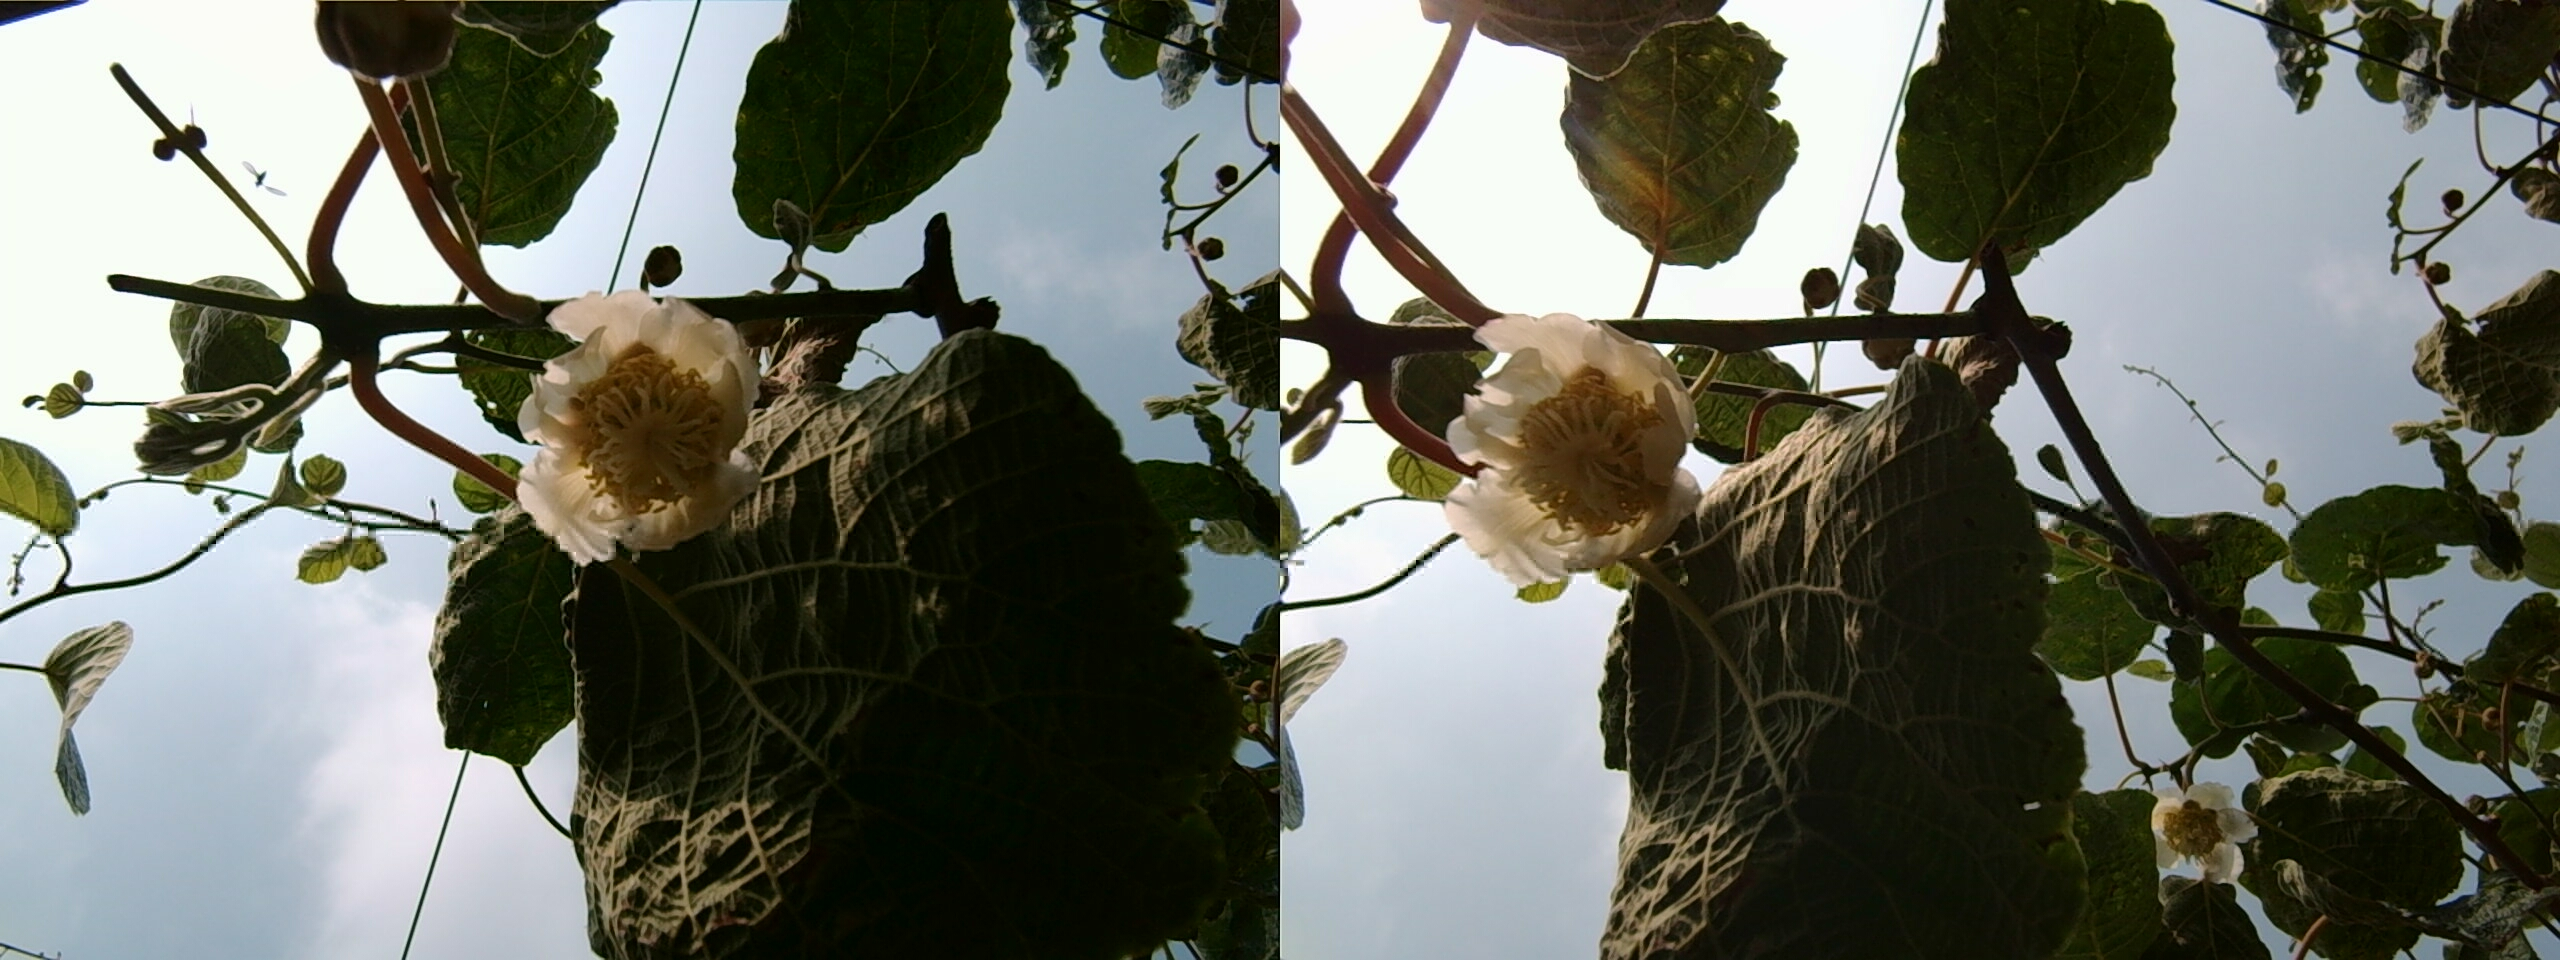flower: (1438, 305, 1691, 573), (519, 278, 756, 550), (2145, 784, 2258, 883)
